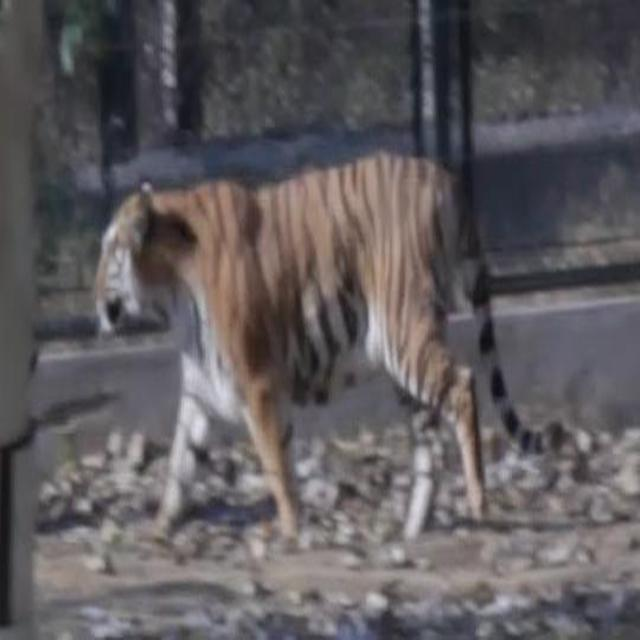tiger: (82, 150, 576, 542)
